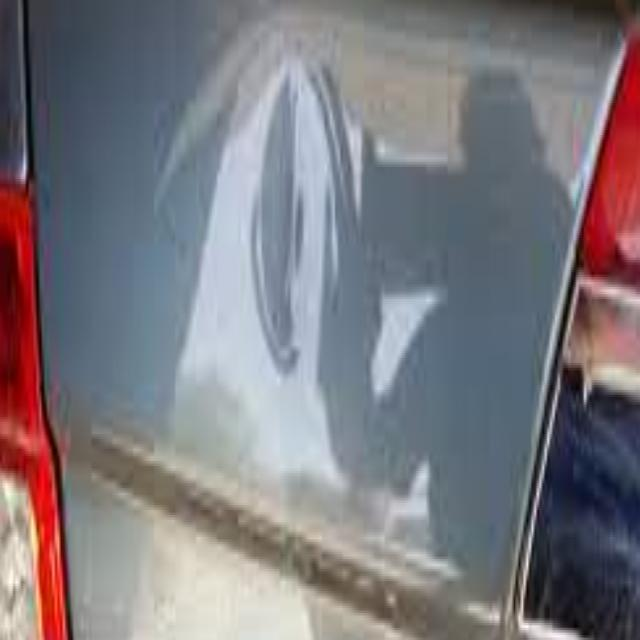dents: (260, 56, 318, 361)
